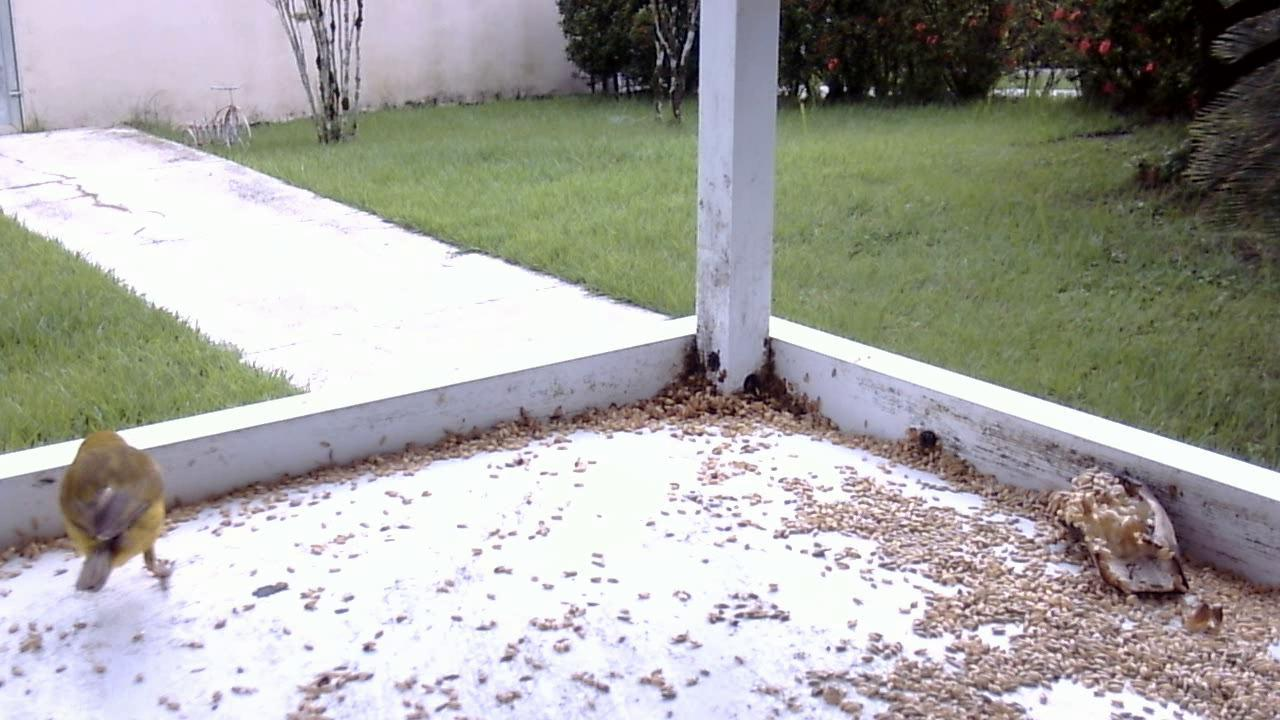canario_do_amazonas: (50, 419, 184, 601)
